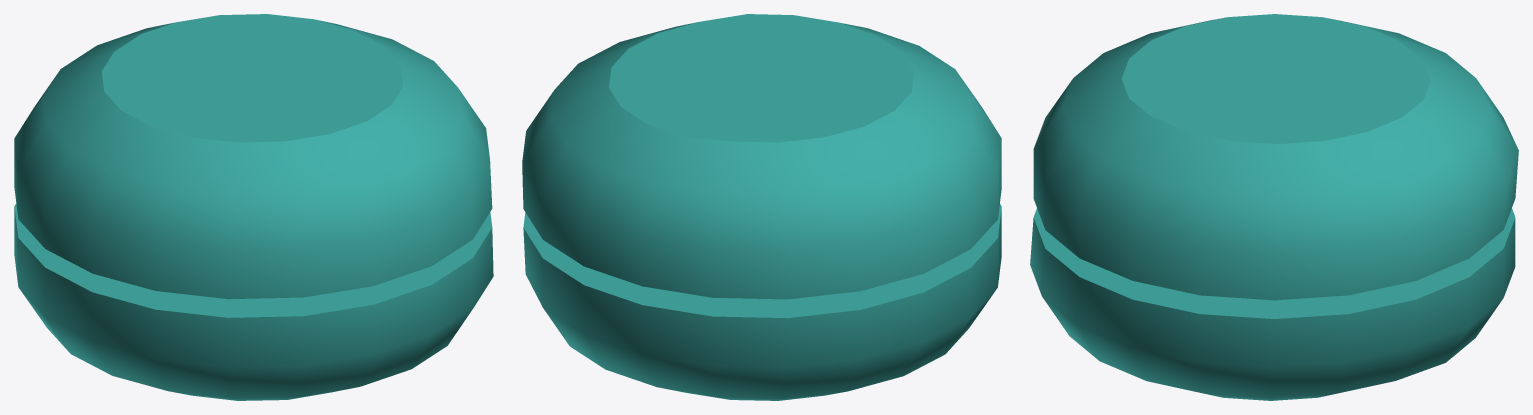
The model's file is Yoyo_Recolored.fbx.
The picture shows the model from 3 angles, left to right: view 1: azimuth 30°, elevation 25°; view 2: azimuth 150°, elevation 25°; view 3: azimuth 270°, elevation 25°; orthographic projection.
Visible parts, largest first — view 1: pCylinder60; view 2: pCylinder60; view 3: pCylinder60.
Part boxes in pixels (x1,y1,x2,y2): pCylinder60: (14, 14, 493, 400); pCylinder60: (522, 14, 1001, 400); pCylinder60: (1030, 14, 1518, 400).
Bounding box in the file's own units: 11.66 × 6.93 × 11.83.
